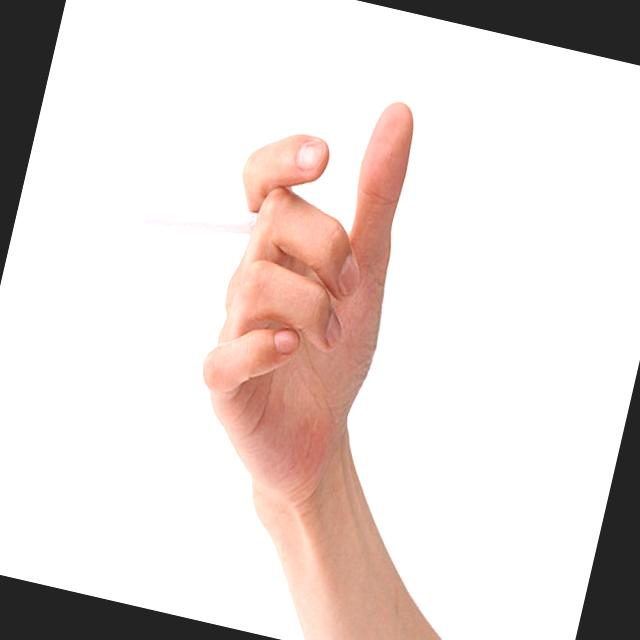cigarette: (136, 188, 258, 258)
